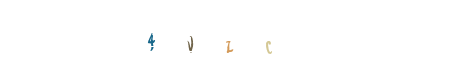4: (111, 0, 191, 80)
C: (191, 0, 271, 80)
V: (163, 0, 243, 80)
Z: (185, 0, 265, 80)
